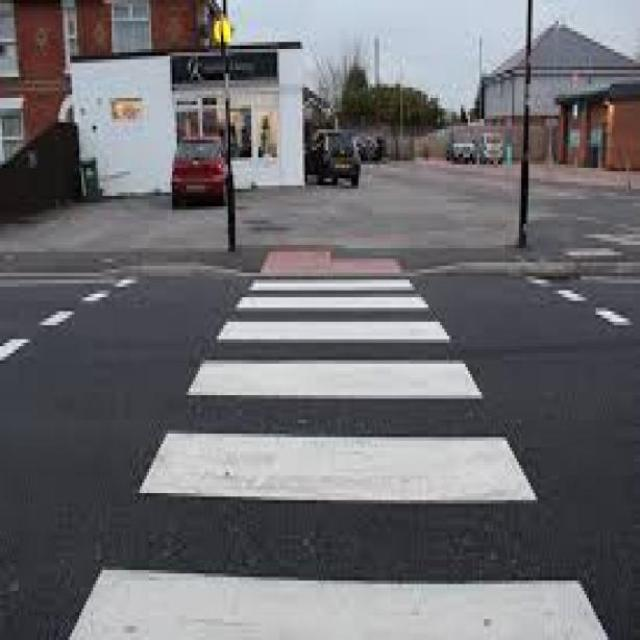pedestrian lane: (68, 279, 606, 640)
